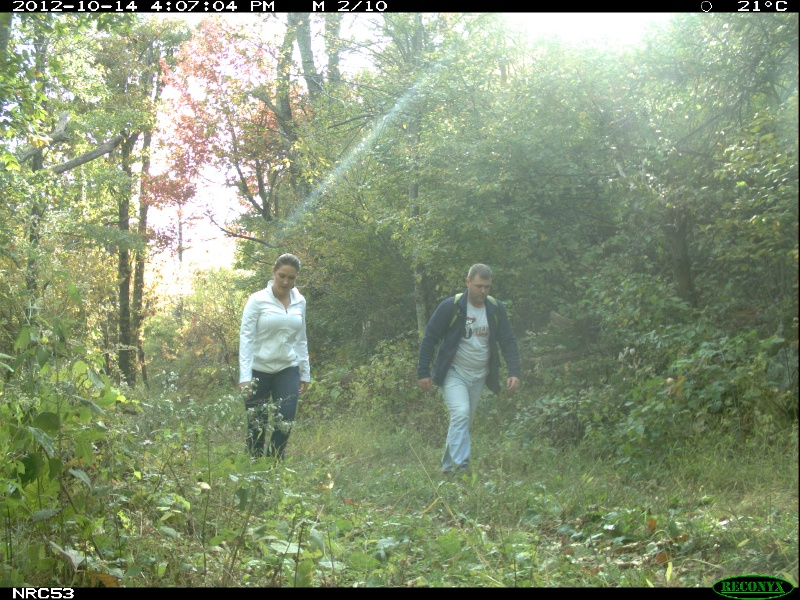human: (415, 261, 522, 484), (234, 251, 315, 487)
human face: (275, 264, 299, 298), (468, 274, 494, 303)
human legs: (240, 359, 306, 487), (438, 366, 494, 480)
